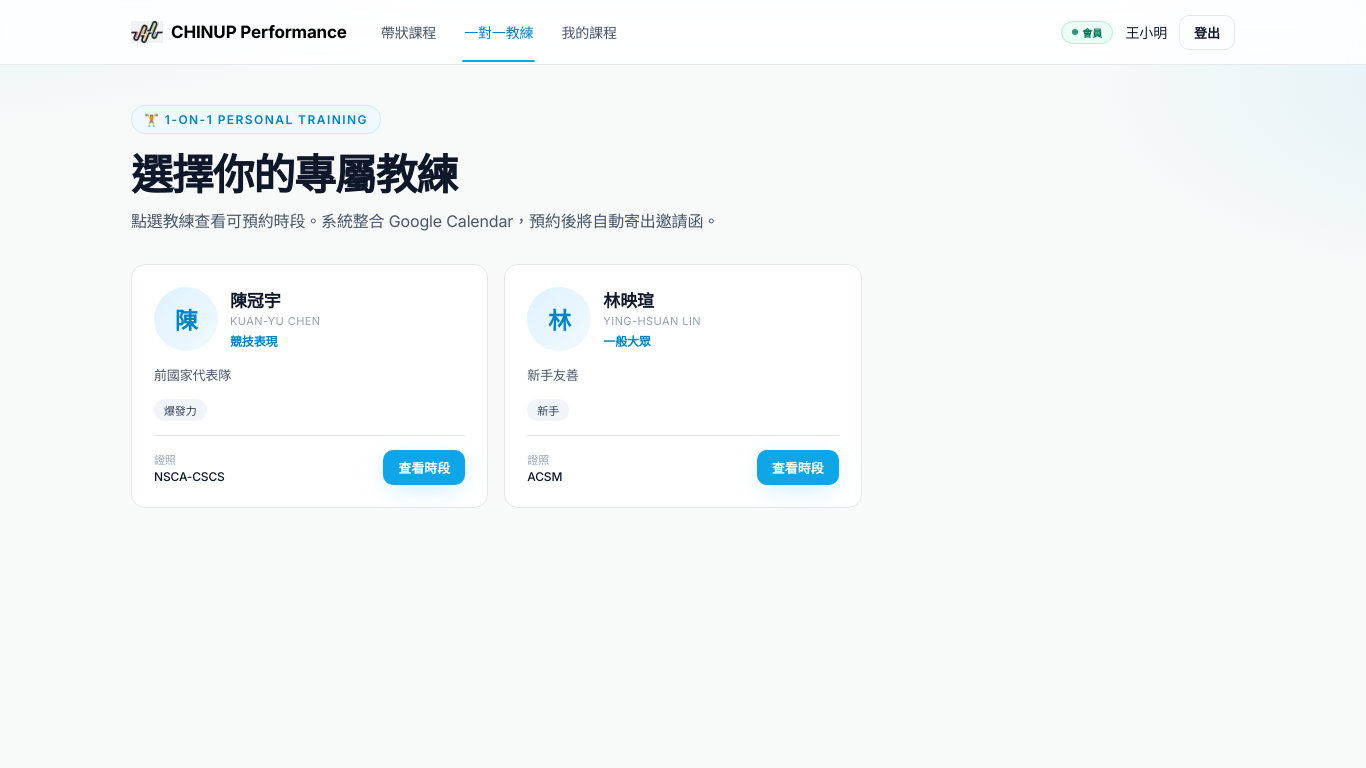
Test: Coach booking flow › navigates to coach detail and shows slot picker
Expected: the text "陳冠宇" is shown, [230,291,280,311]
Click the button "查看時段" next to "NSCA-CSCS" at (424, 468), box [383,450,465,485]
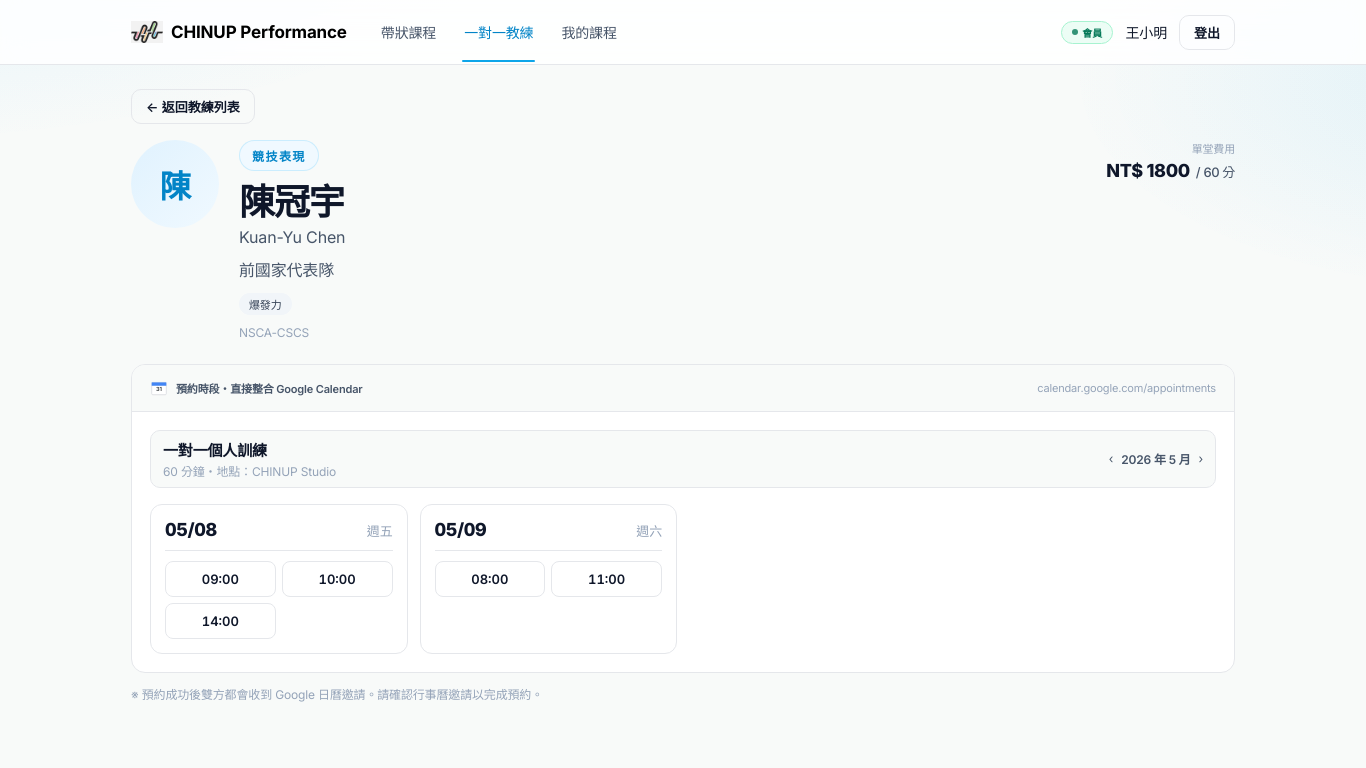
Result: the text "單堂費用" is shown at [1192,142,1235,156]
Result: the text "05/08" is shown at [165,519,217,540]
Result: the text "05/09" is shown at [434,519,486,540]
